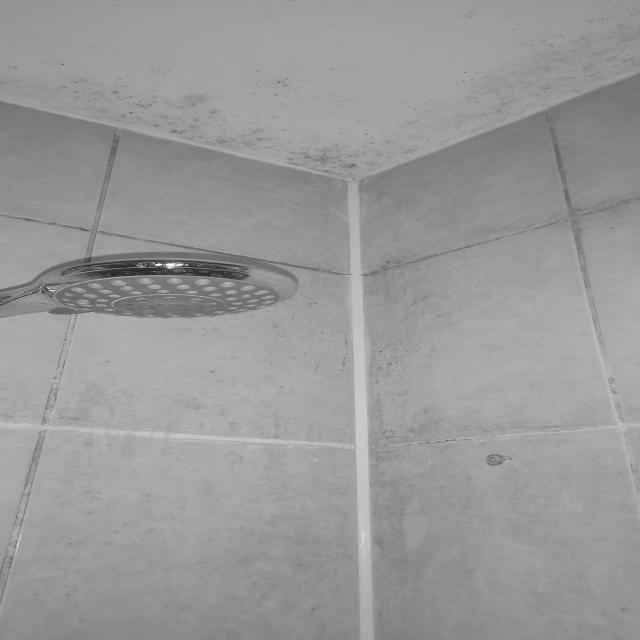stain marks: (0, 52, 372, 180), (379, 0, 640, 172)
